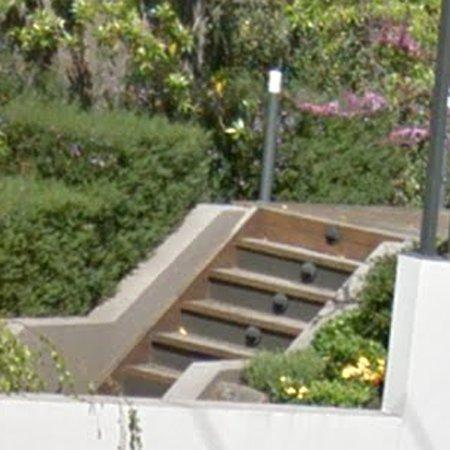stairs: (112, 209, 407, 397)
